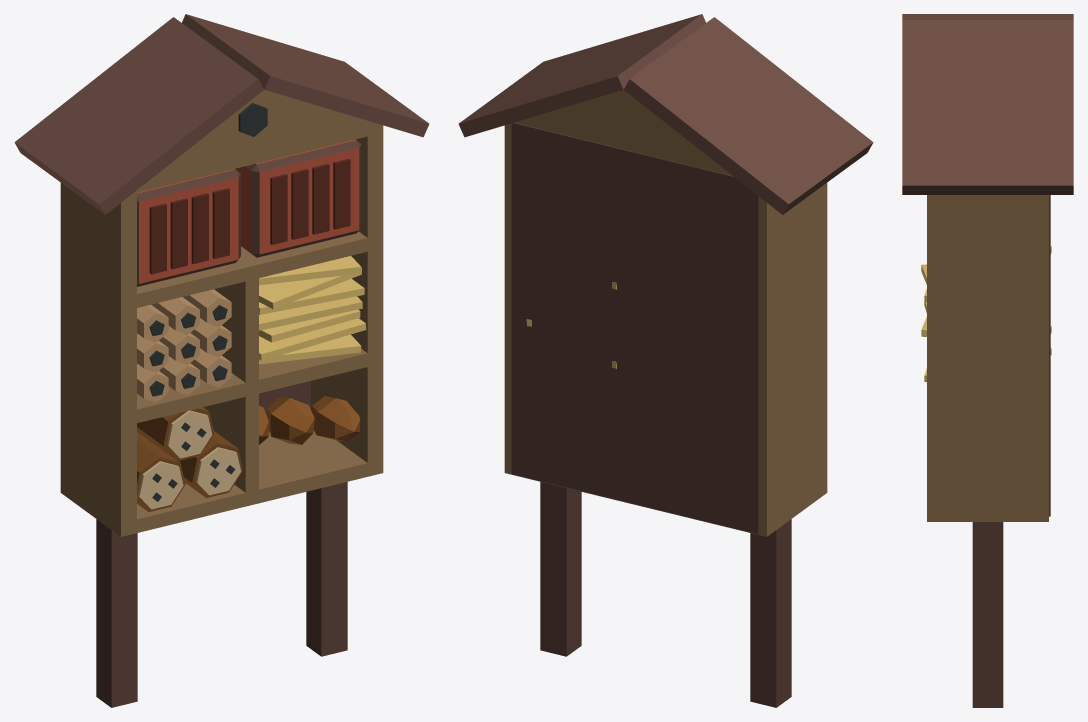
Rendered from insektenhotel.glb.
3 views of the same model, side by side, from view 1: azimuth 30°, elevation 25°; view 2: azimuth 150°, elevation 25°; view 3: azimuth 270°, elevation 25° (orthographic).
Parts seen in each view (by area): view 1: insektenhotel-m; view 2: insektenhotel-m; view 3: insektenhotel-m.
Part boxes in pixels (bbox=[...]): insektenhotel-m: bbox=[14, 14, 429, 707]; insektenhotel-m: bbox=[458, 14, 873, 707]; insektenhotel-m: bbox=[902, 14, 1073, 707].
Bounding box in the file's own units: 0.6295 × 1.14 × 0.28.
